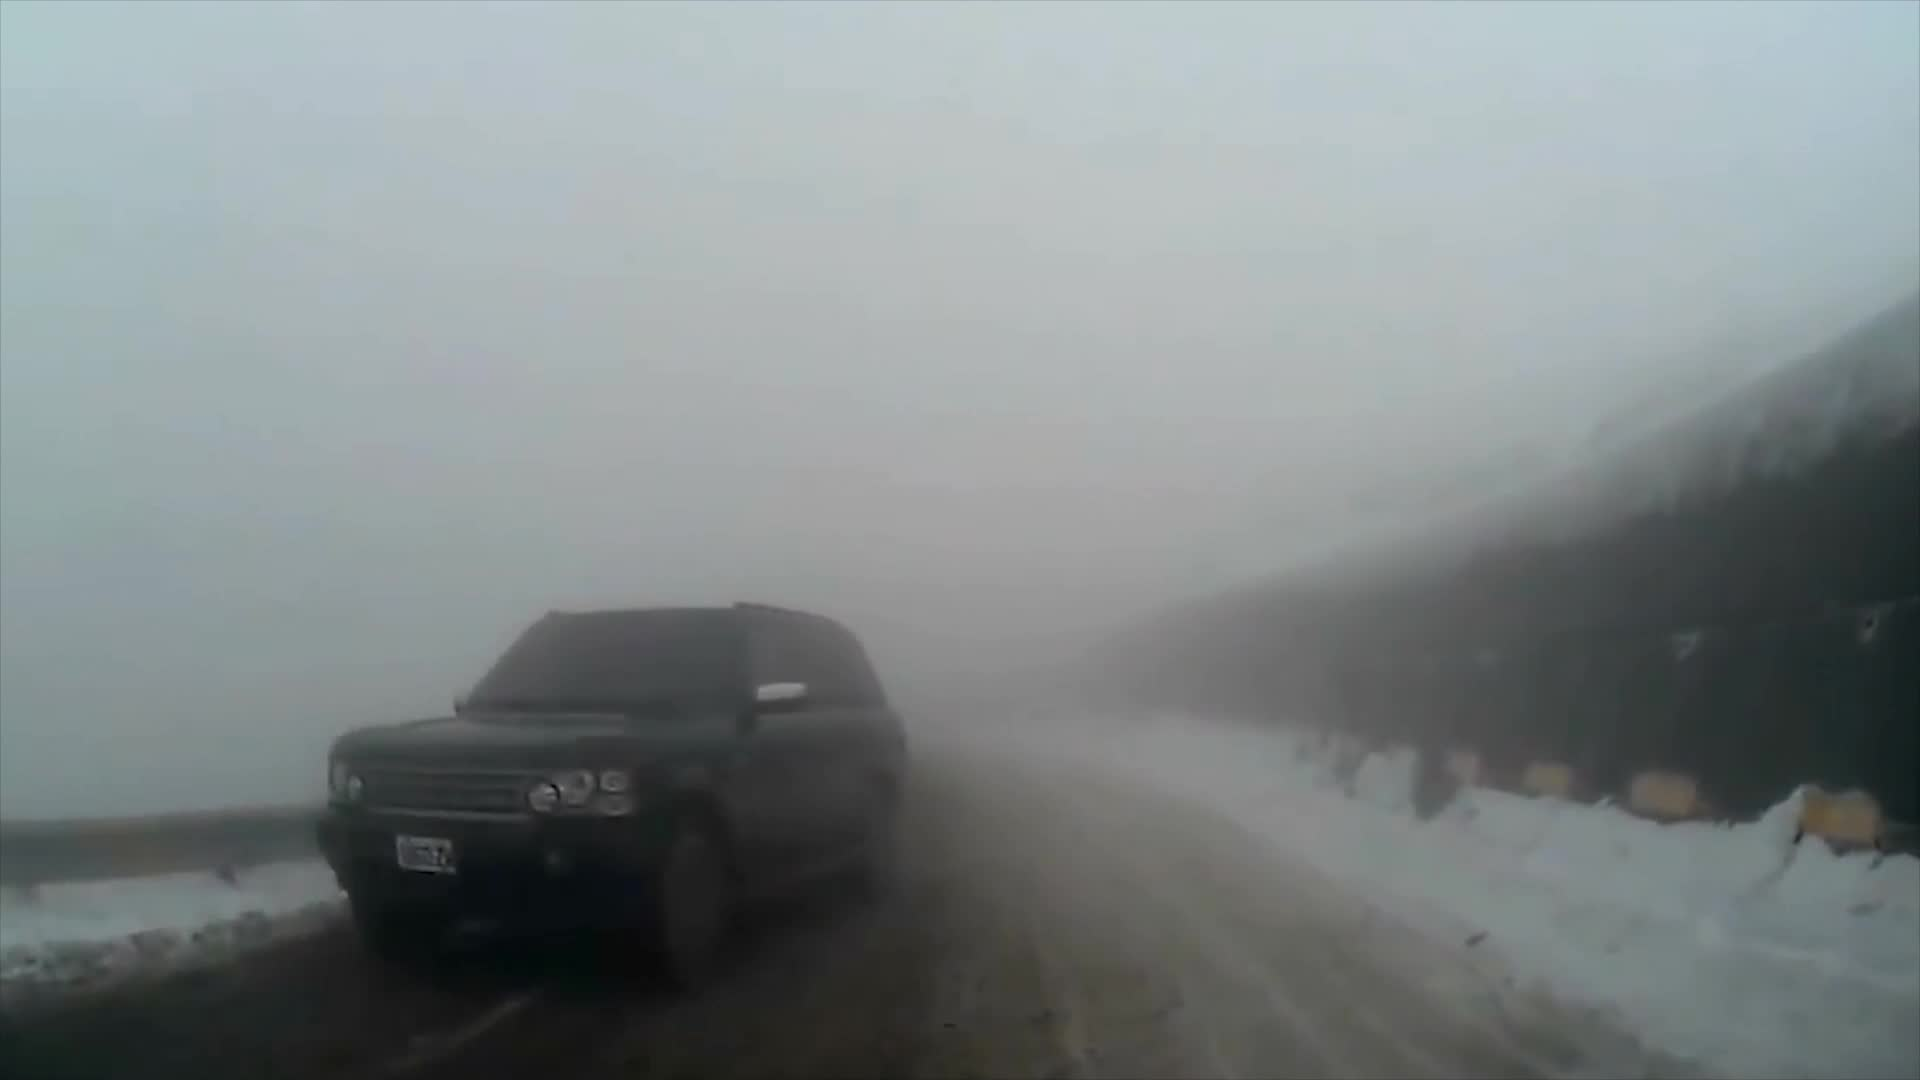vehicle: (313, 597, 916, 986)
